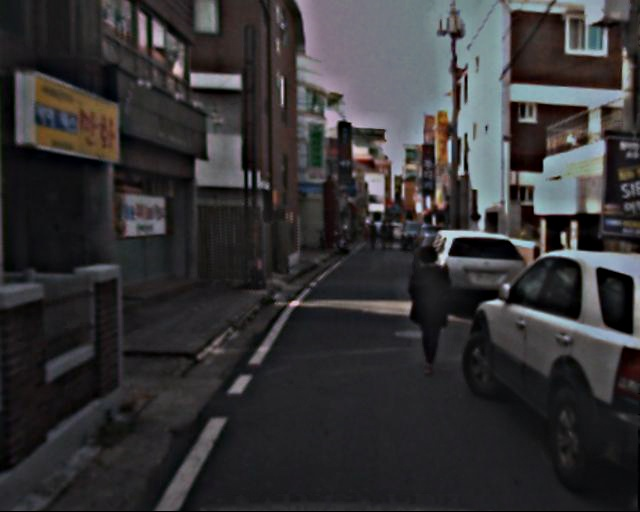person: (403, 244, 458, 377), (368, 221, 394, 253)
